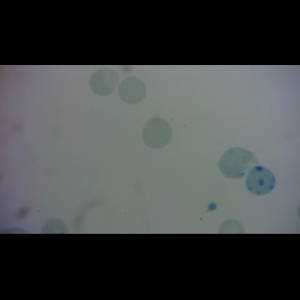aggregate reticulocyte: (245, 165, 277, 196)
erythrocyte: (141, 116, 174, 150), (88, 69, 123, 96), (118, 76, 148, 106)
punctate reticulocyte: (218, 146, 264, 180)
